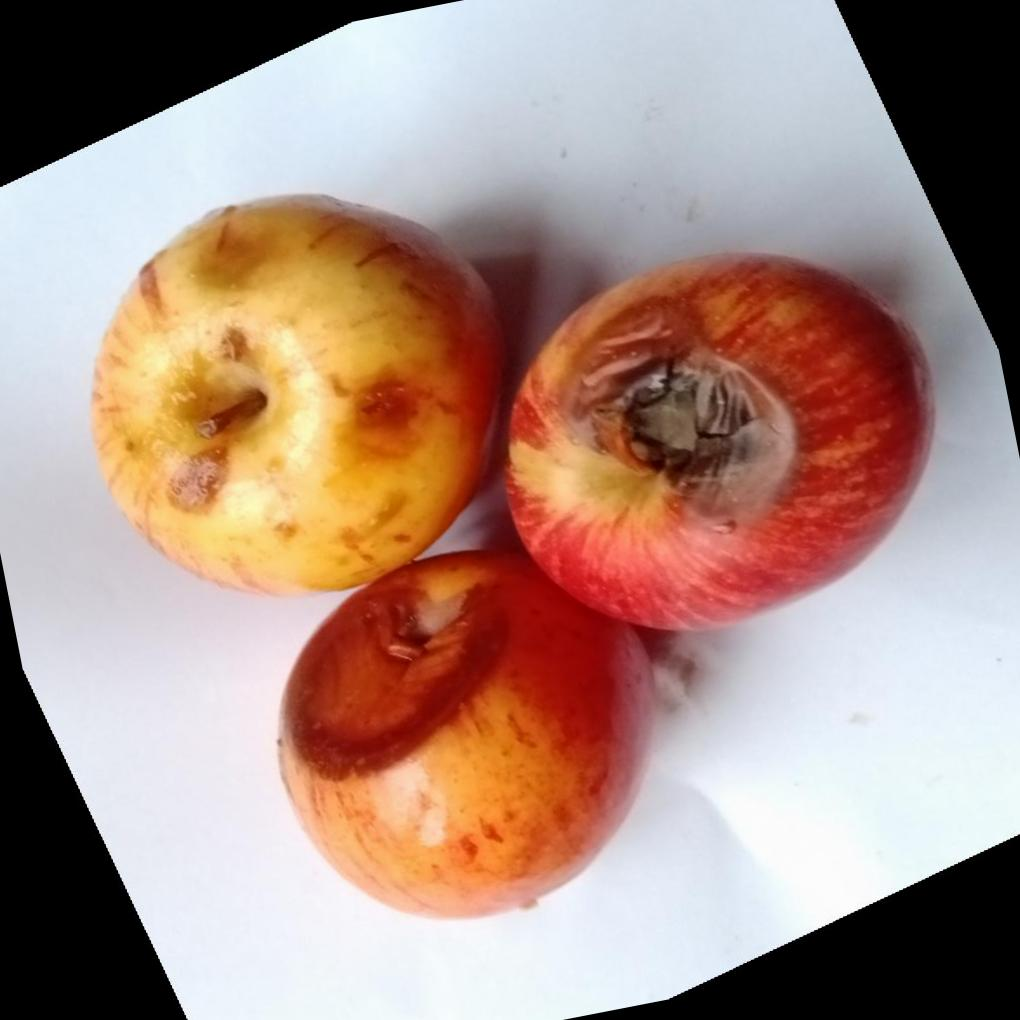FreshOrange: (86, 196, 931, 921)
